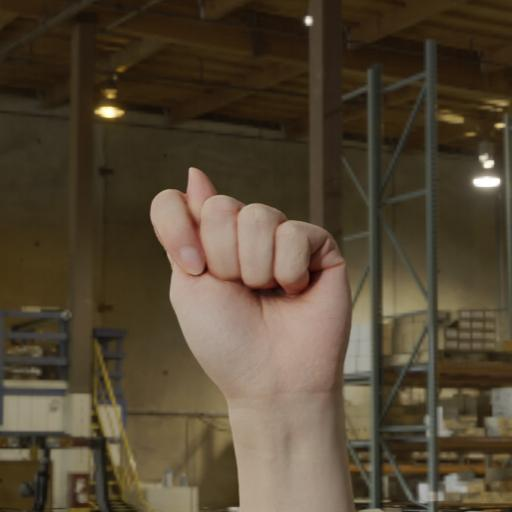T: (129, 147, 435, 441)
